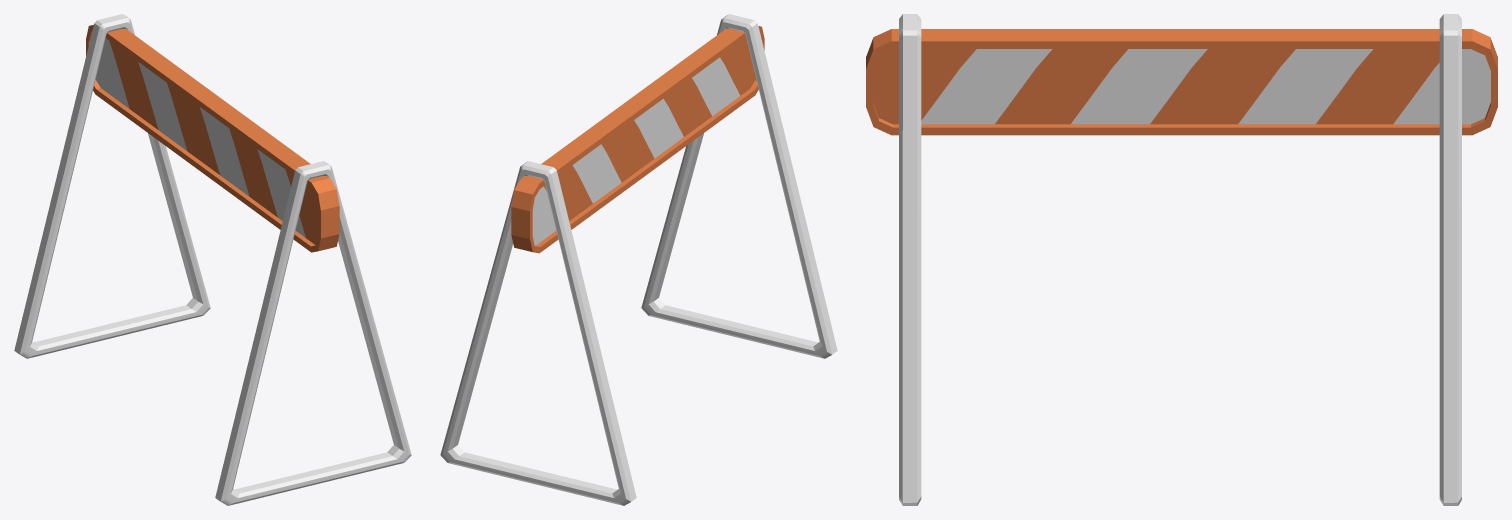
Rendered from engel_geo.fbx.
The picture shows the model from 3 angles, left to right: view 1: azimuth 30°, elevation 25°; view 2: azimuth 150°, elevation 25°; view 3: azimuth 270°, elevation 25°; orthographic projection. The views are drawn at different scales.
Parts seen in each view (by area): view 1: polySurface2; view 2: polySurface2; view 3: polySurface2.
Part boxes in pixels (x1,y1,x2,y2): polySurface2: (14,14,411,505); polySurface2: (440,14,837,505); polySurface2: (866,14,1497,505).
Bounding box in the file's own units: 2.4 × 3.8 × 5.11.
